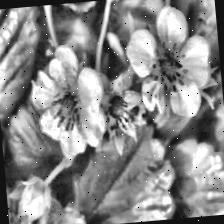Blossom Blight: (145, 38, 195, 96), (49, 82, 87, 133), (101, 89, 136, 132)
